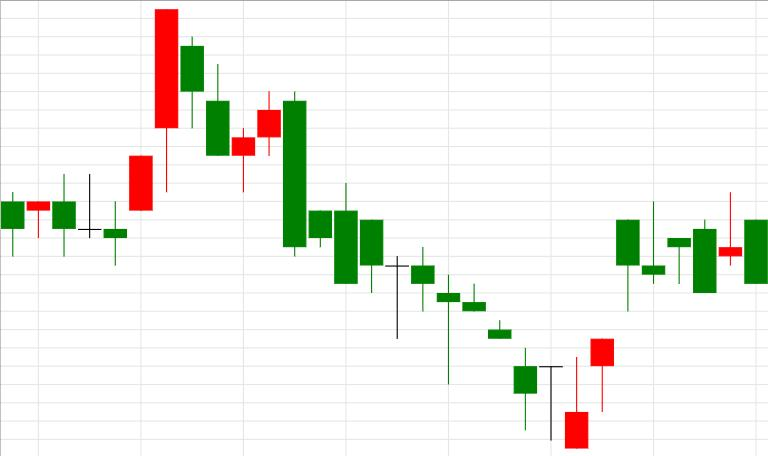inverse_hammer_rise: (283, 92, 588, 449)
